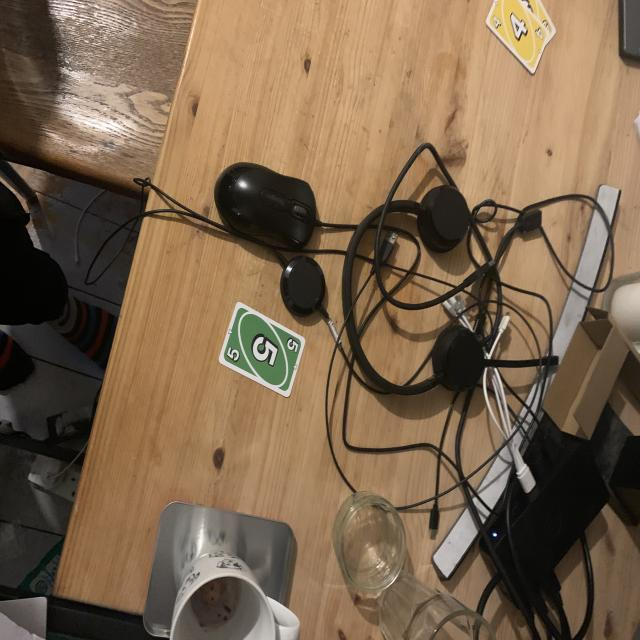lgreen-5: (226, 345, 241, 364)
